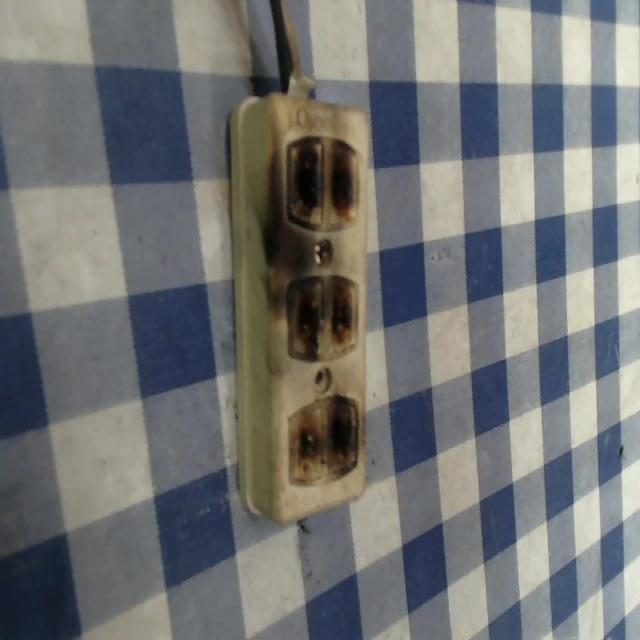-: (281, 129, 361, 235), (283, 388, 360, 484), (283, 270, 362, 362)
